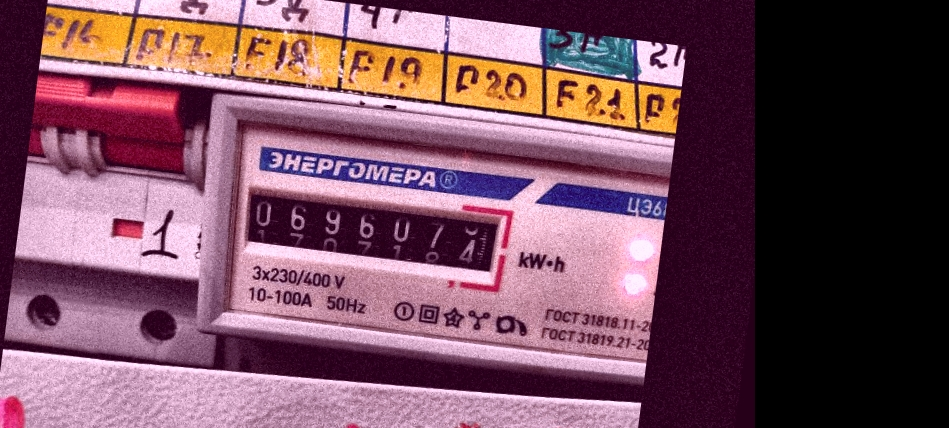0: (390, 211, 412, 243), (252, 197, 273, 227)
4: (456, 235, 476, 265)
6: (286, 200, 309, 230), (355, 209, 377, 240)
7: (425, 218, 446, 250)
9: (321, 206, 341, 235)
screen: (225, 167, 519, 292)
